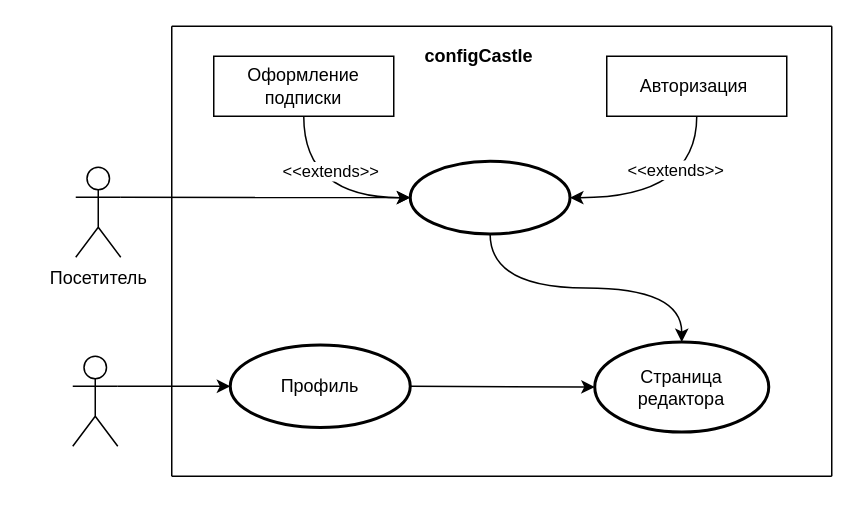
This 860x527 diagram has some shape labels left out. The shapes that lost their labels are listed below. From the top down, each one's centre as x and y in pixels, then its label:
the point at 489,197: Титульная страница
the point at 94,400: Авторизованный пользователь
